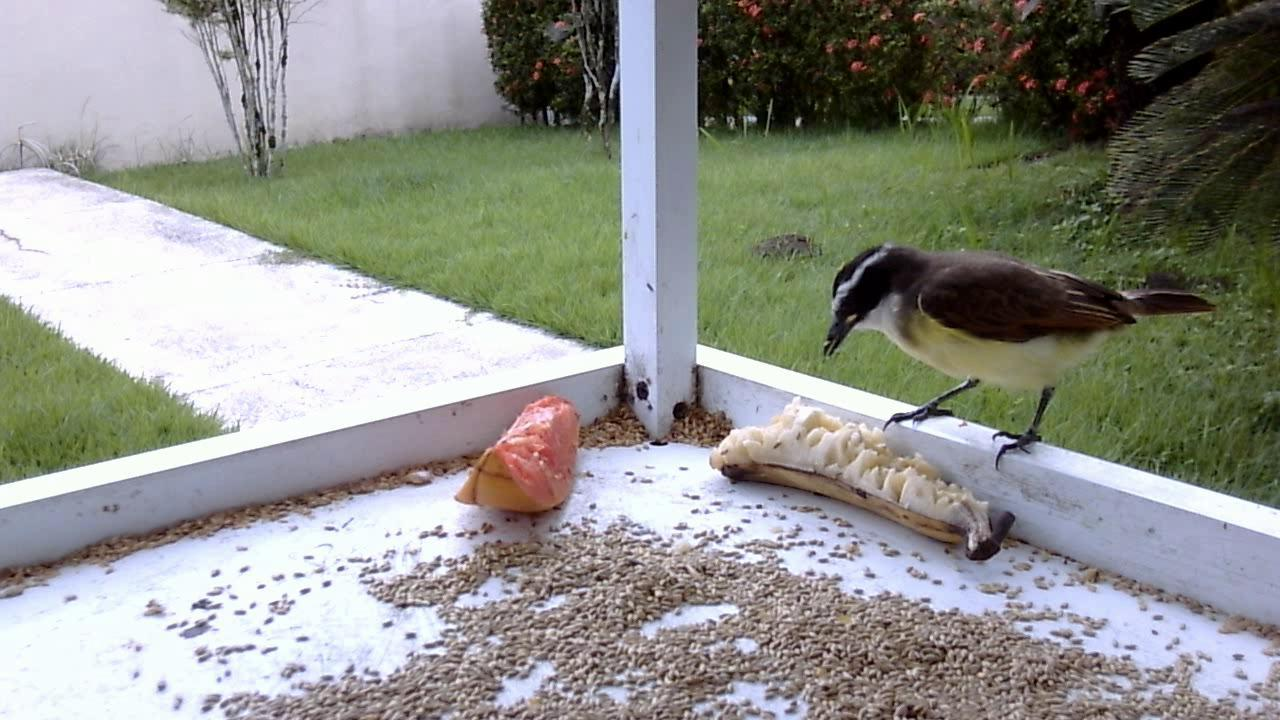bem_te_vi: (814, 234, 1227, 481)
